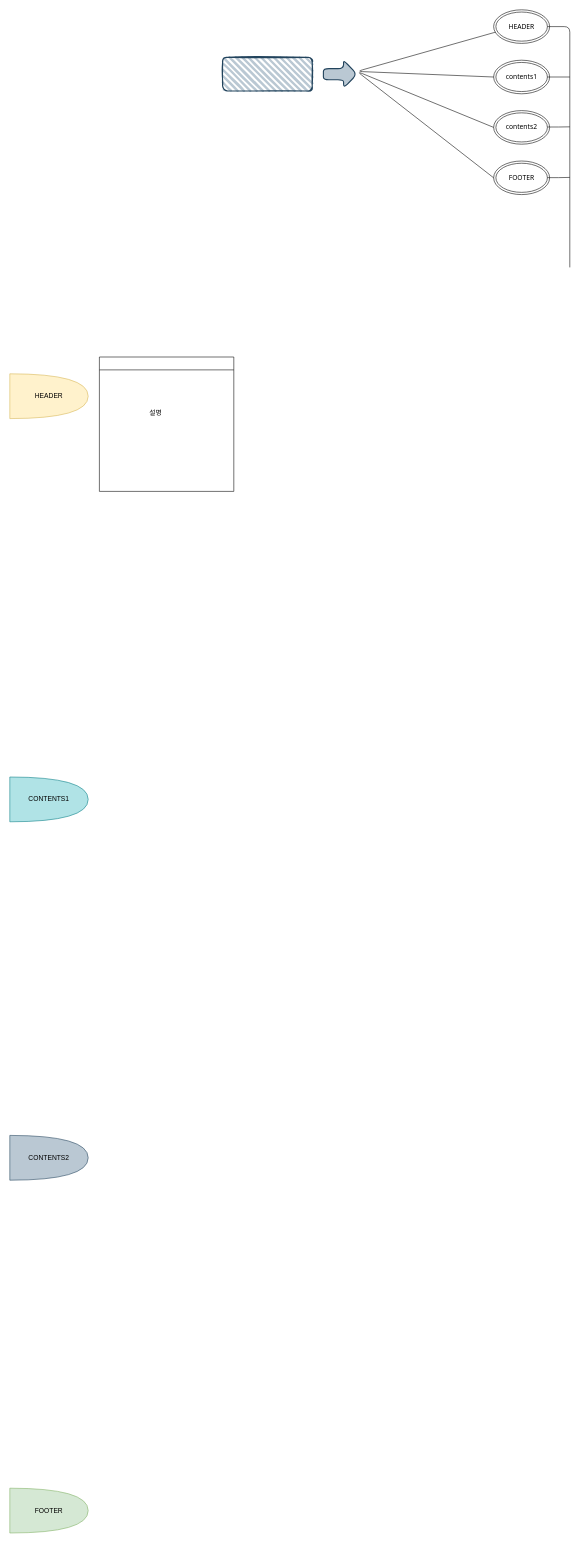
The diagram is 580 pixels wide and 1543 high, and some of its shapes have lost their labels. The shapes that lost their labels are listed below. From the top down, each one's box as (x1, y1, x2, y2) in pixels, then its label:
(222, 57, 312, 91): 올리브영
(99, 356, 234, 491): 제목
